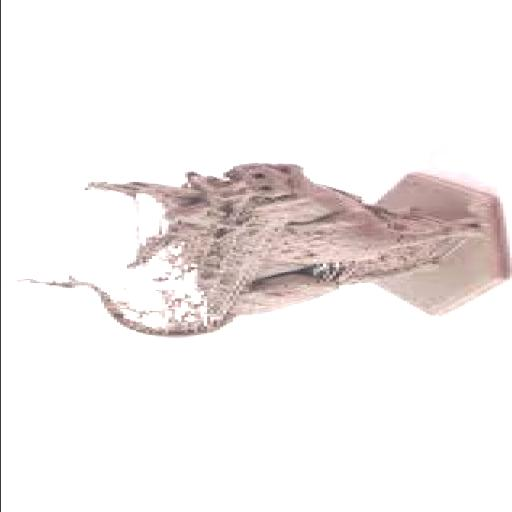stringing: (114, 228, 258, 334)
